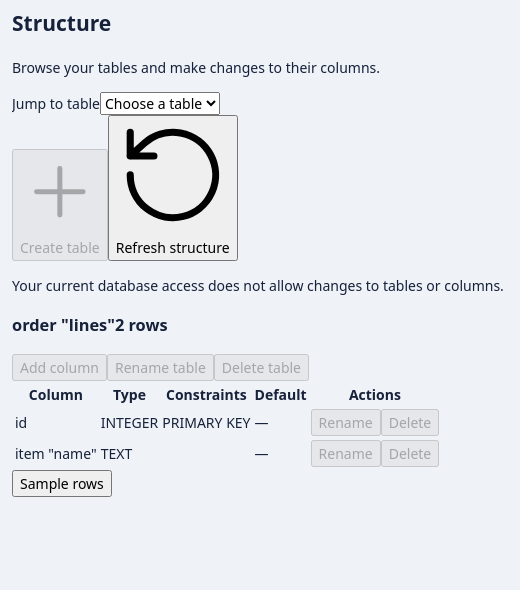
manual structure controls › keeps readable sample rows while hiding copy and download without export permission
Click the button "Sample rows" at (62, 483), box [12,470,112,496]
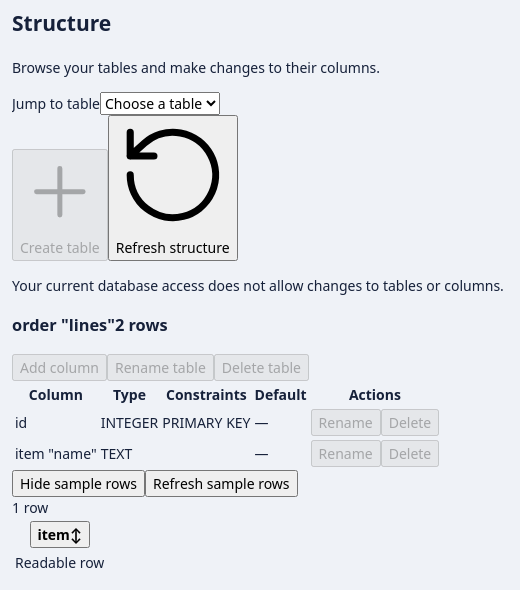
Check: the button "Create table" is disabled, box [12,150,108,261]
Check: the text "Readable row" is shown, box [14,550,105,574]
